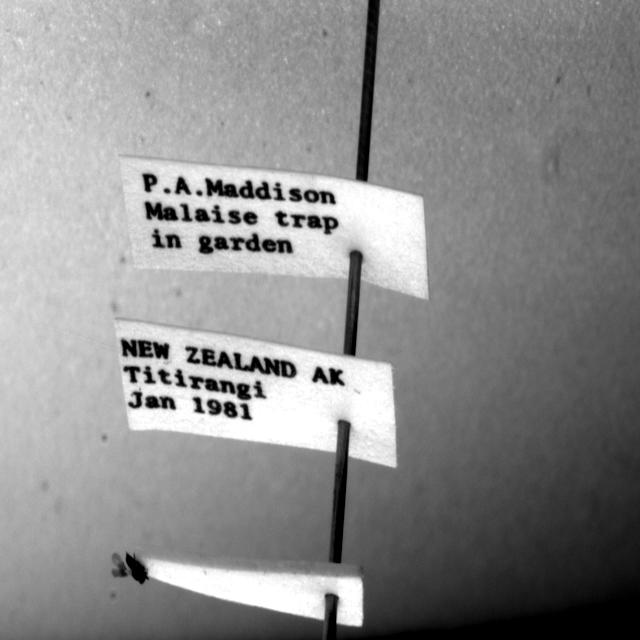typed_label: (120, 156, 429, 298), (115, 321, 396, 467)
